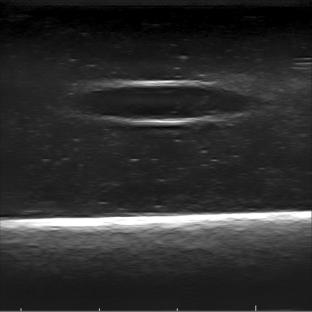vessel: (78, 78, 263, 125)
